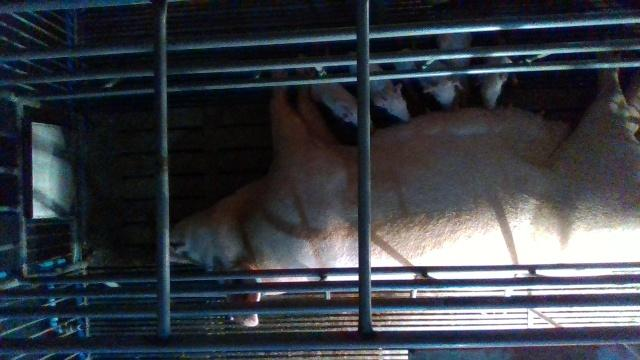piglet: (350, 51, 411, 122), (395, 49, 464, 109), (472, 31, 513, 111), (311, 83, 373, 133)
sow-sleep-lactate: (172, 51, 640, 326)
